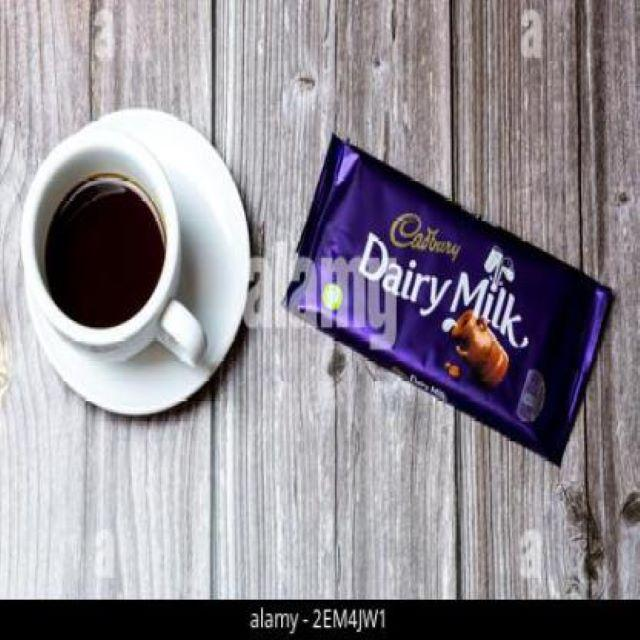cadbury_chocolate: (295, 137, 608, 448)
